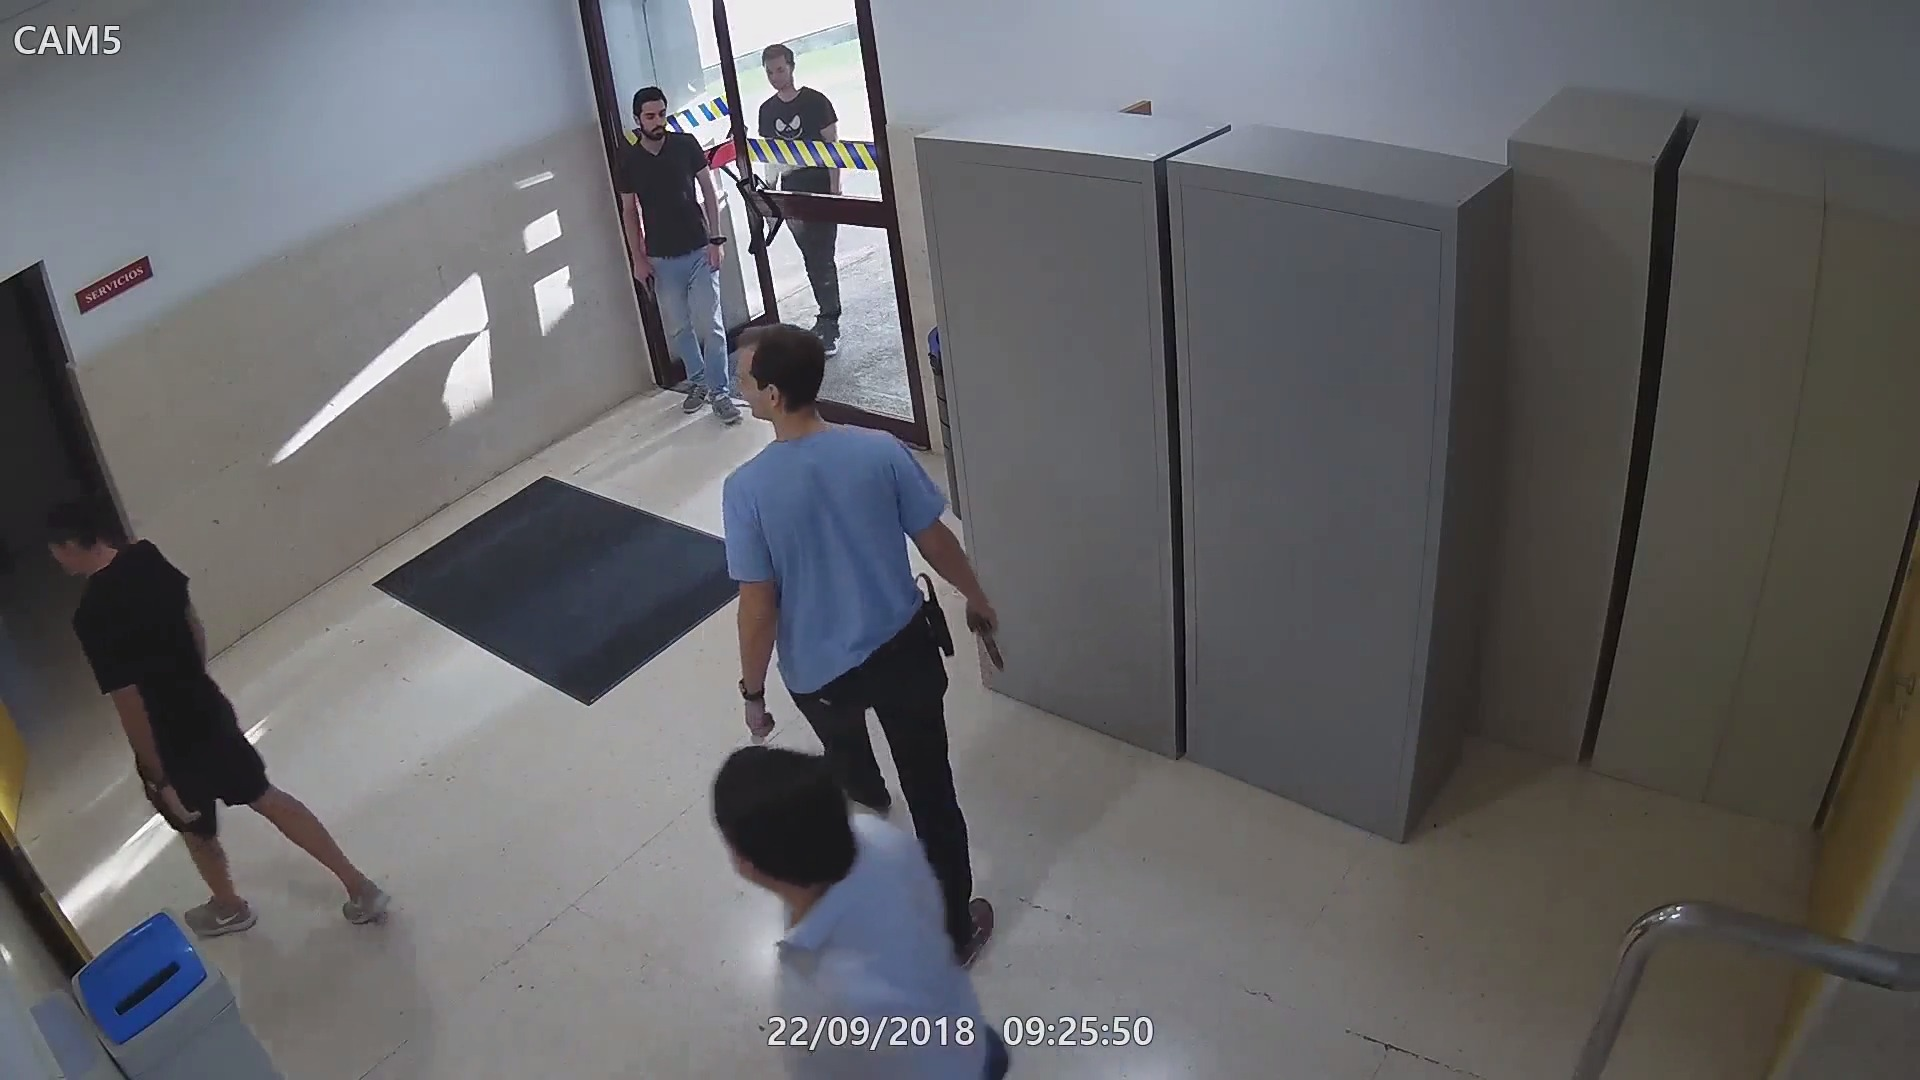Handgun: (957, 582, 1006, 665), (626, 253, 665, 309)
Knife: (748, 686, 789, 746)
